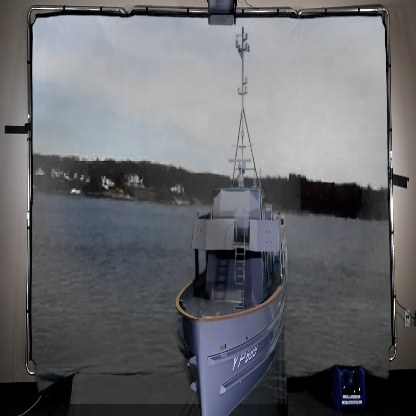YP689: (173, 26, 290, 416)
